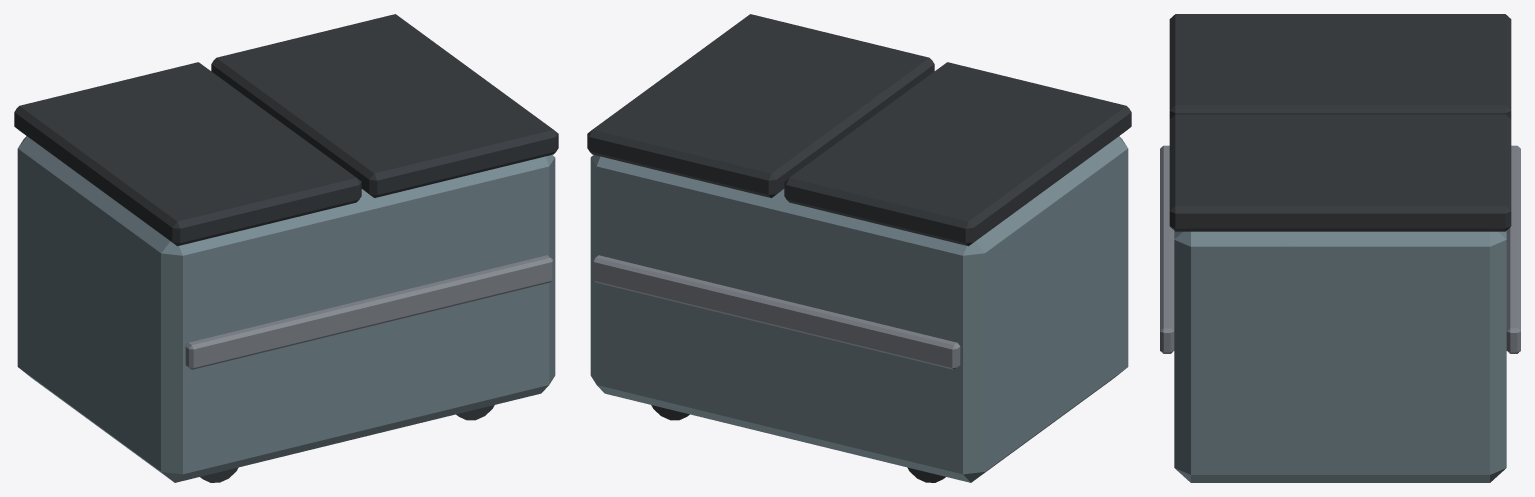
Rendered from dumpster.glb.
The picture shows the model from 3 angles, left to right: view 1: azimuth 30°, elevation 25°; view 2: azimuth 150°, elevation 25°; view 3: azimuth 270°, elevation 25°; orthographic projection. The views are drawn at different scales.
Visible parts, largest first — view 1: dumpster; view 2: dumpster; view 3: dumpster.
Boxes of the visible parts, x1,y1,x2,y2 form: dumpster: [14, 14, 558, 482]; dumpster: [587, 14, 1131, 482]; dumpster: [1160, 14, 1520, 482].
Bounding box in the file's own units: 2 × 1.4 × 1.52.
